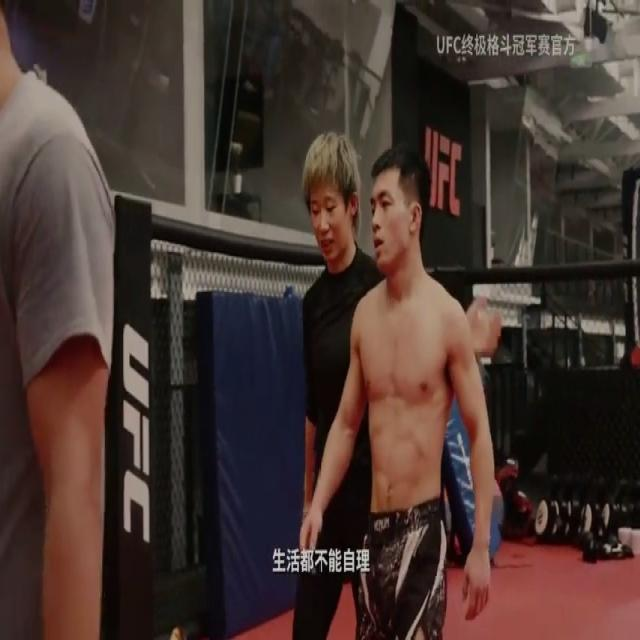non-fight: (294, 137, 507, 638), (0, 0, 120, 640), (290, 126, 373, 640)
